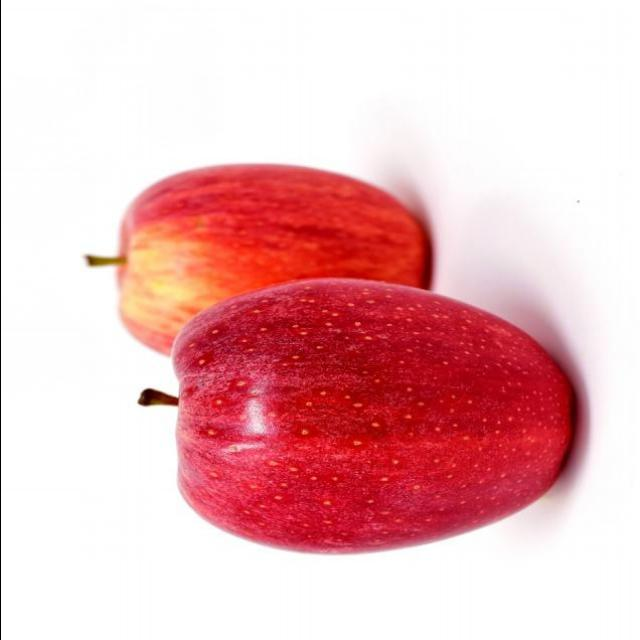apple: (173, 270, 596, 554), (114, 156, 442, 374)
